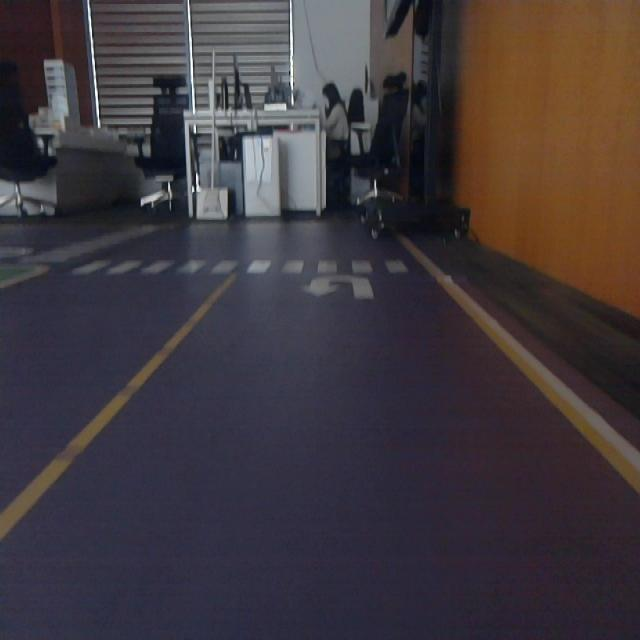left_lane: (0, 271, 234, 543)
right_lane: (395, 228, 639, 491)
